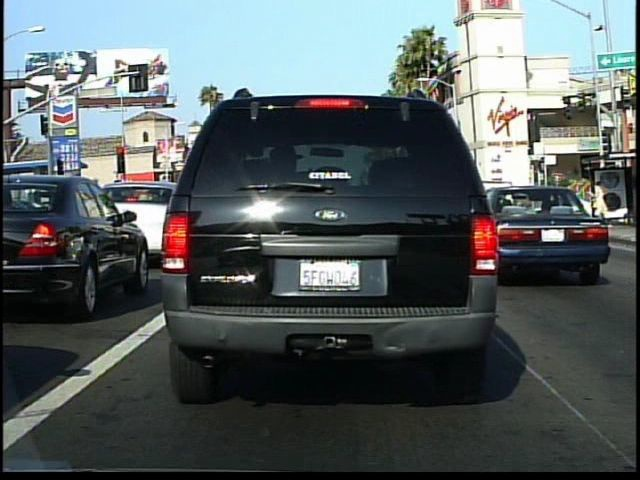person: (589, 171, 614, 227)
